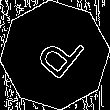P_SW: (25, 24, 85, 86)
